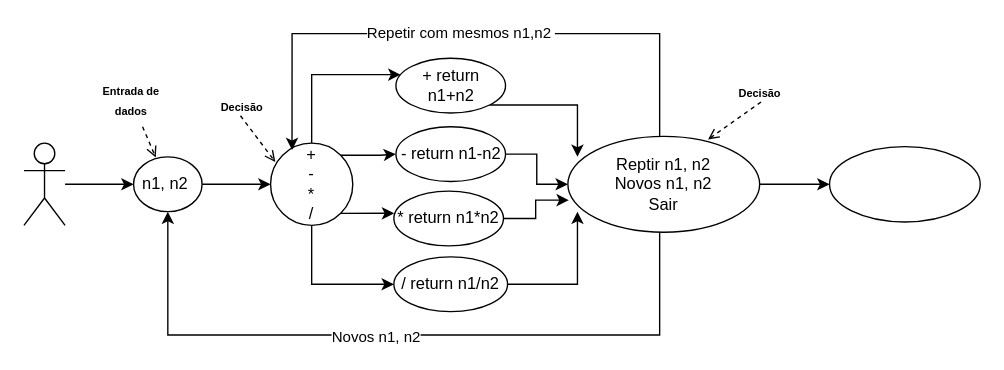
Some shapes in this 1004 by 370 pixel diagram are drawn without their labels. The centre of each missing label's shape, as x and y in pixels:
Ator: point (44, 183)
Fim: point (904, 183)
